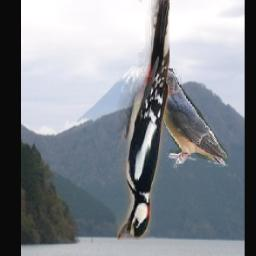Swallow: (153, 68, 228, 168)
Woodpecker: (117, 0, 170, 241)
